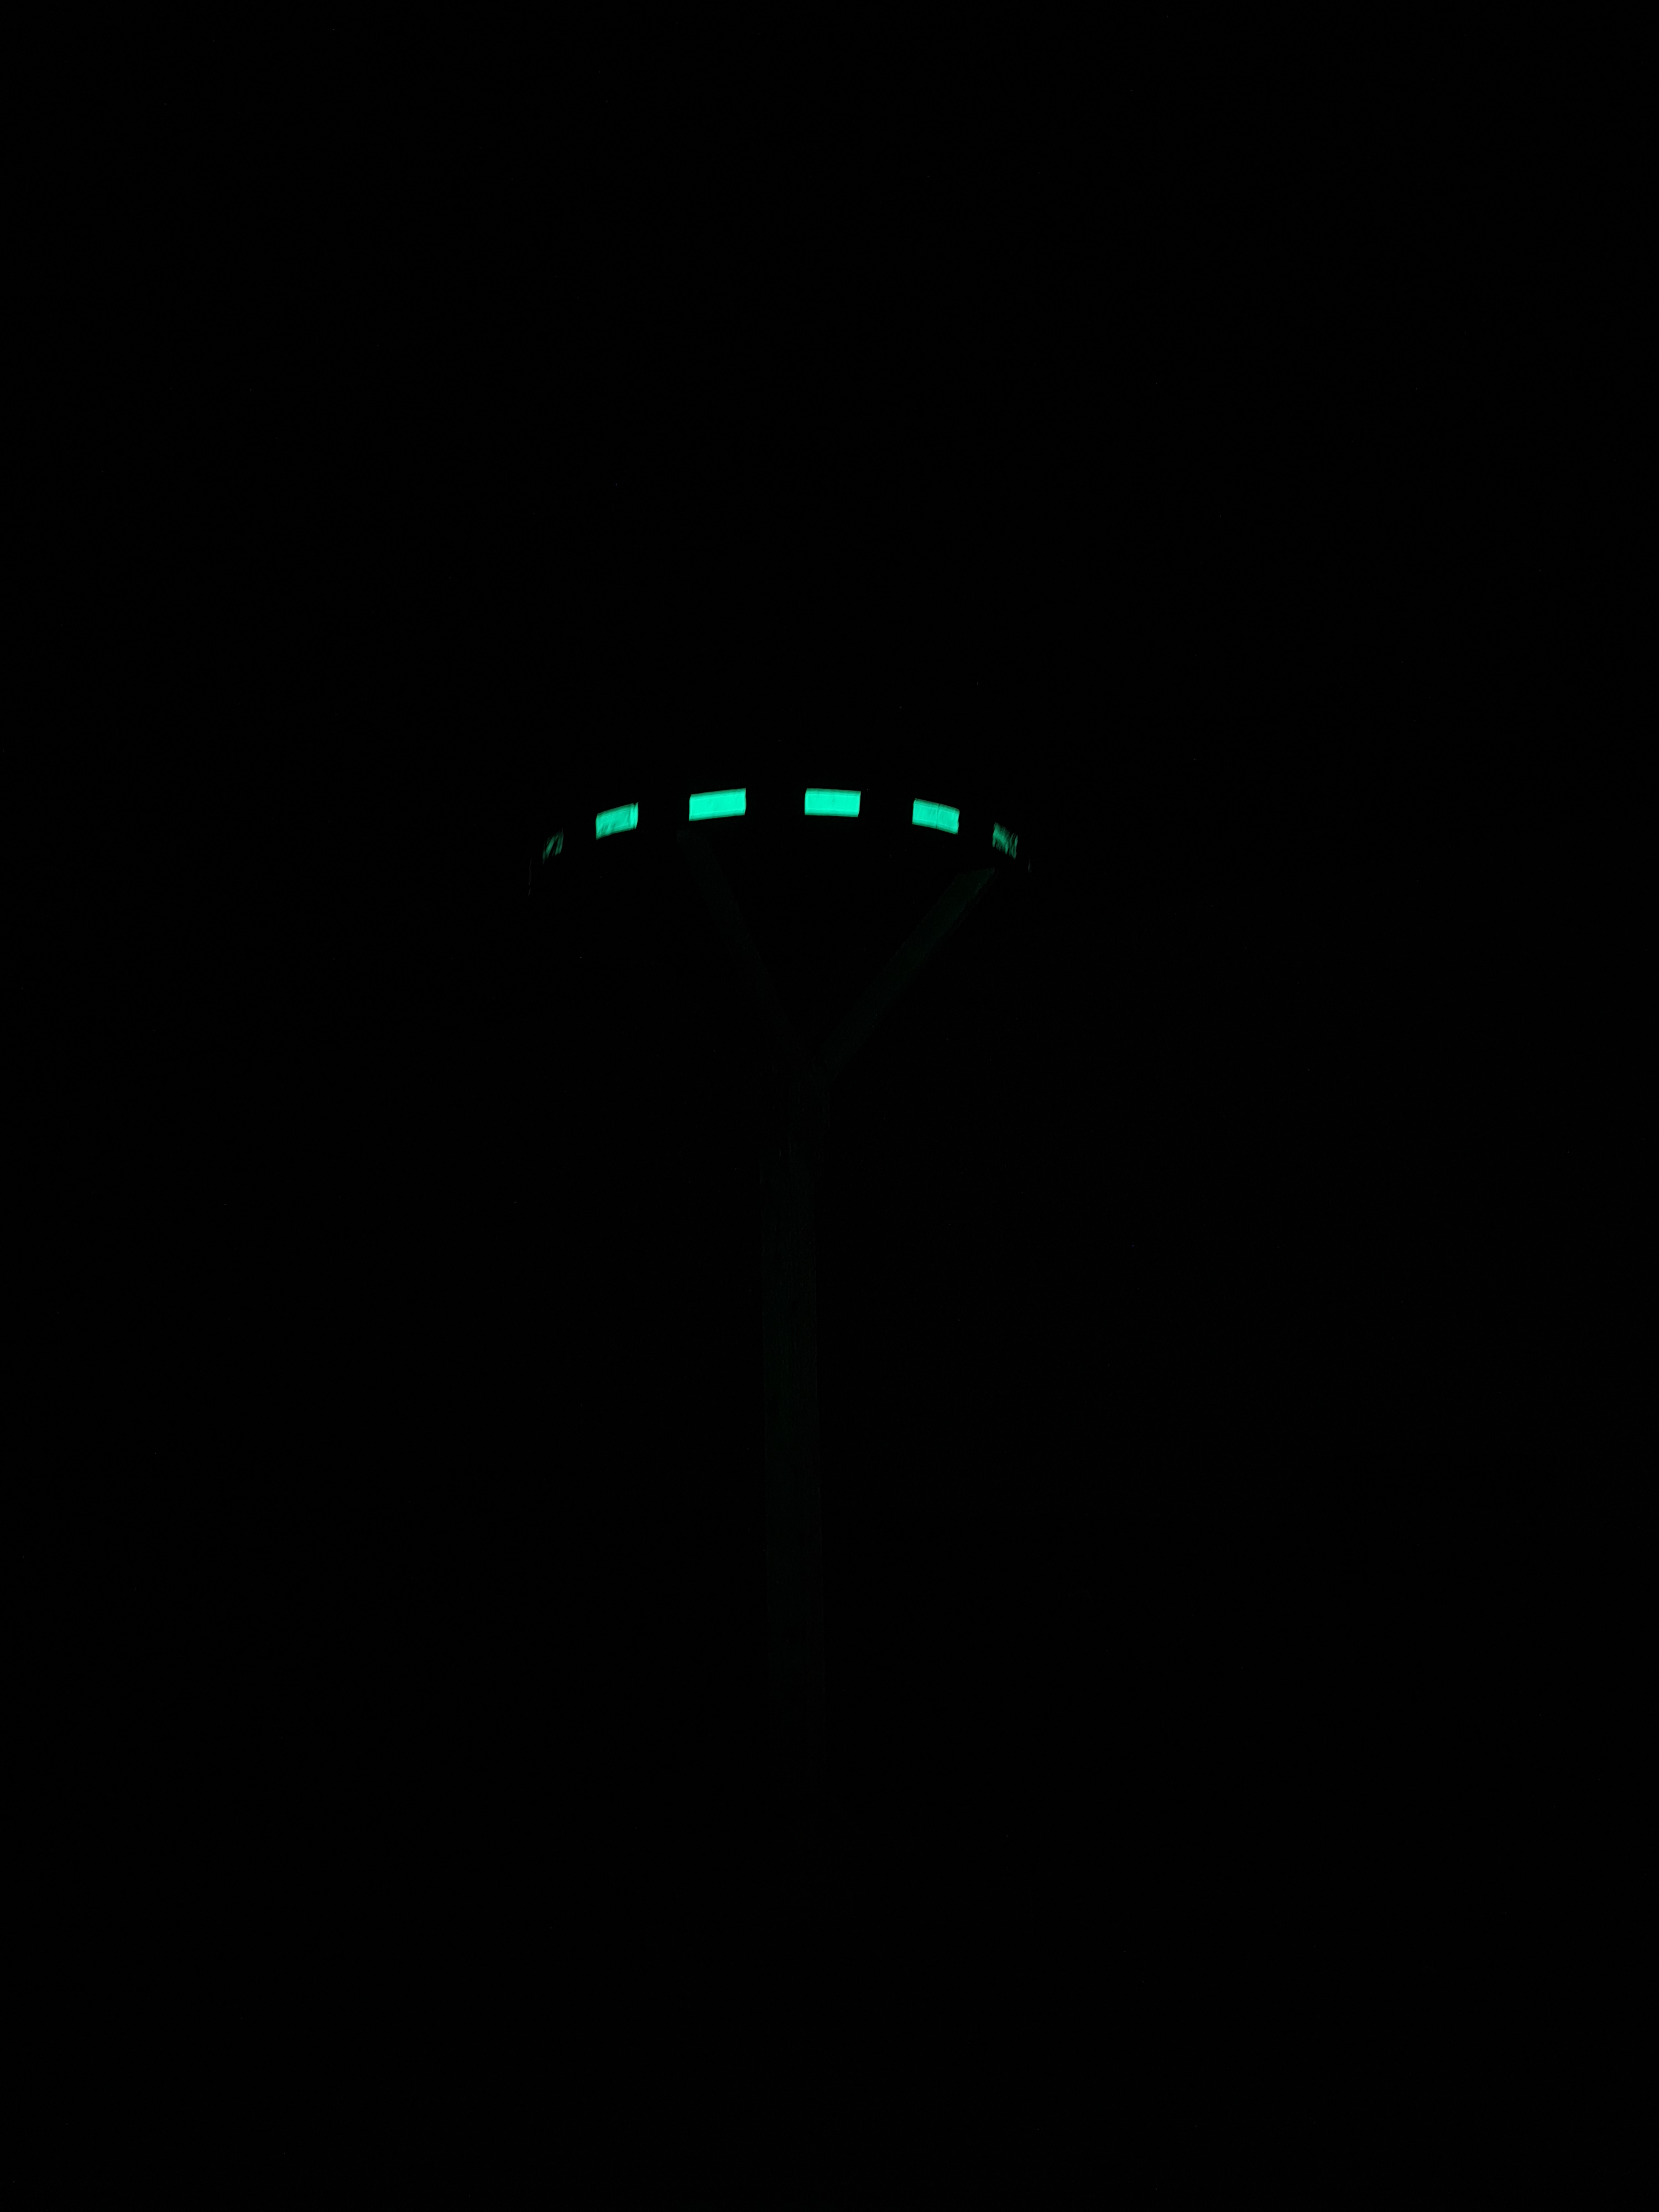hoop: (488, 780, 1037, 876)
